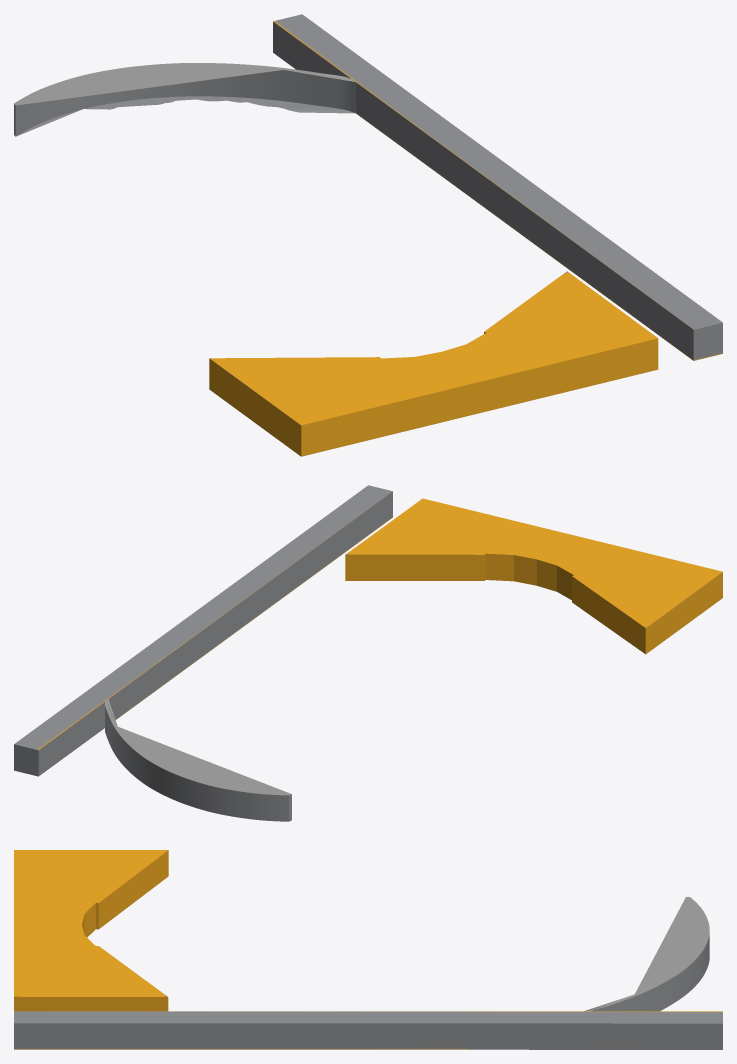
The model's file is InnerFrame.obj.
3 views of the same model, one above another, from view 1: azimuth 30°, elevation 25°; view 2: azimuth 150°, elevation 25°; view 3: azimuth 270°, elevation 25° (orthographic). The views are drawn at different scales.
Parts seen in each view (by area): view 1: SmallFrame_Cube.001; view 2: SmallFrame_Cube.001; view 3: SmallFrame_Cube.001.
Part boxes in pixels (left/top/right/bottom): SmallFrame_Cube.001: left=14, top=14, right=722, bottom=456; SmallFrame_Cube.001: left=14, top=485, right=722, bottom=821; SmallFrame_Cube.001: left=14, top=850, right=722, bottom=1049.
Bounding box in the file's own units: 1.85 × 0.1336 × 3.2.
